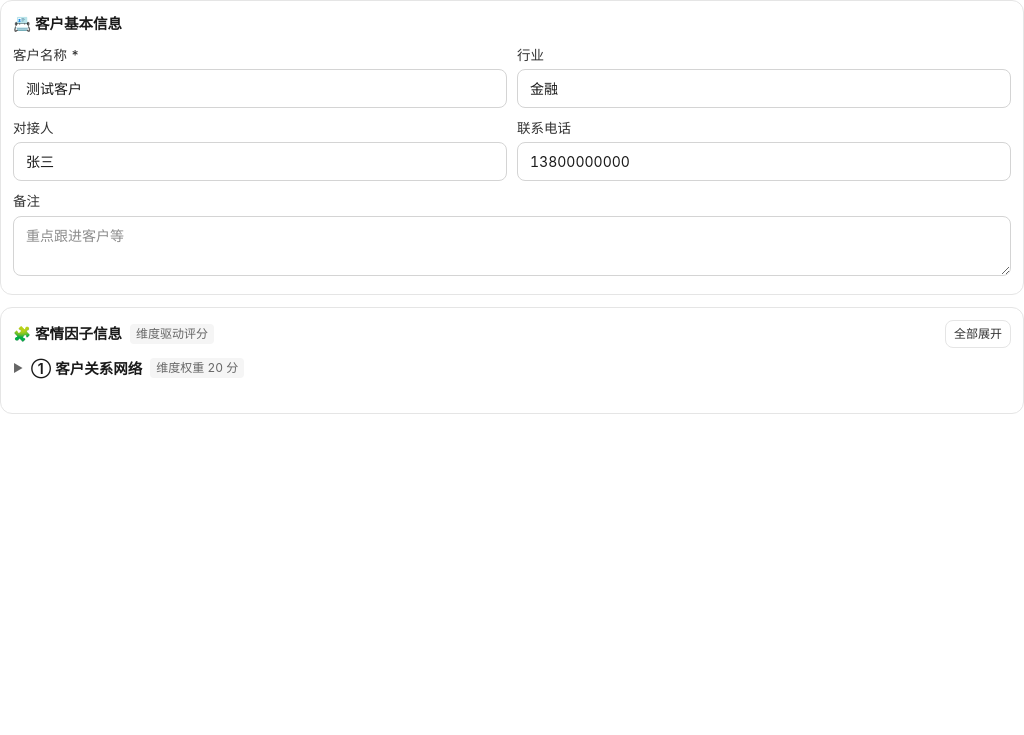
Test: CustomerForm 二级维度分组 › 维度默认收起，展开后按 sub_dimension 分组展示因子
Check: the text "已识别决策链人数占比" is not shown
Click the button "▶ ① 客户关系网络 维度权重 20 分" at (99, 368), box [13, 358, 1011, 379]
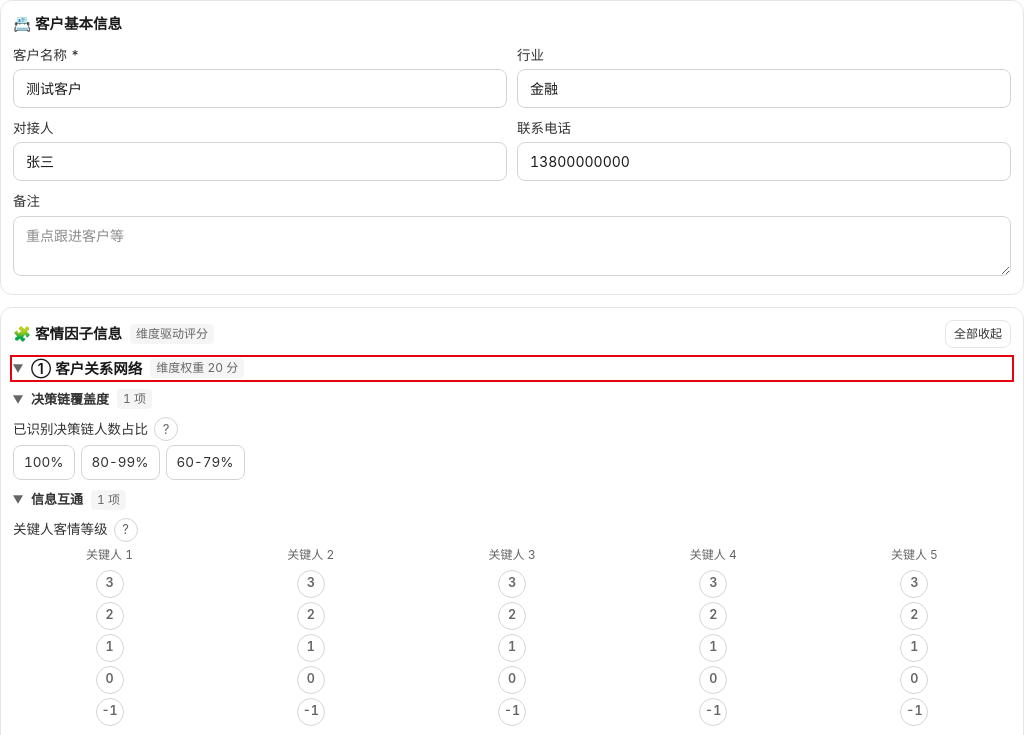
Check: the text "决策链覆盖度" is shown, box [31, 390, 109, 409]
Check: the text "信息互通" is shown, box [31, 490, 83, 509]
Check: the text "已识别决策链人数占比" is shown, box [13, 419, 148, 439]
Click the button named "查看已识别决策链人数占比说明" at (166, 429), box [154, 417, 178, 441]
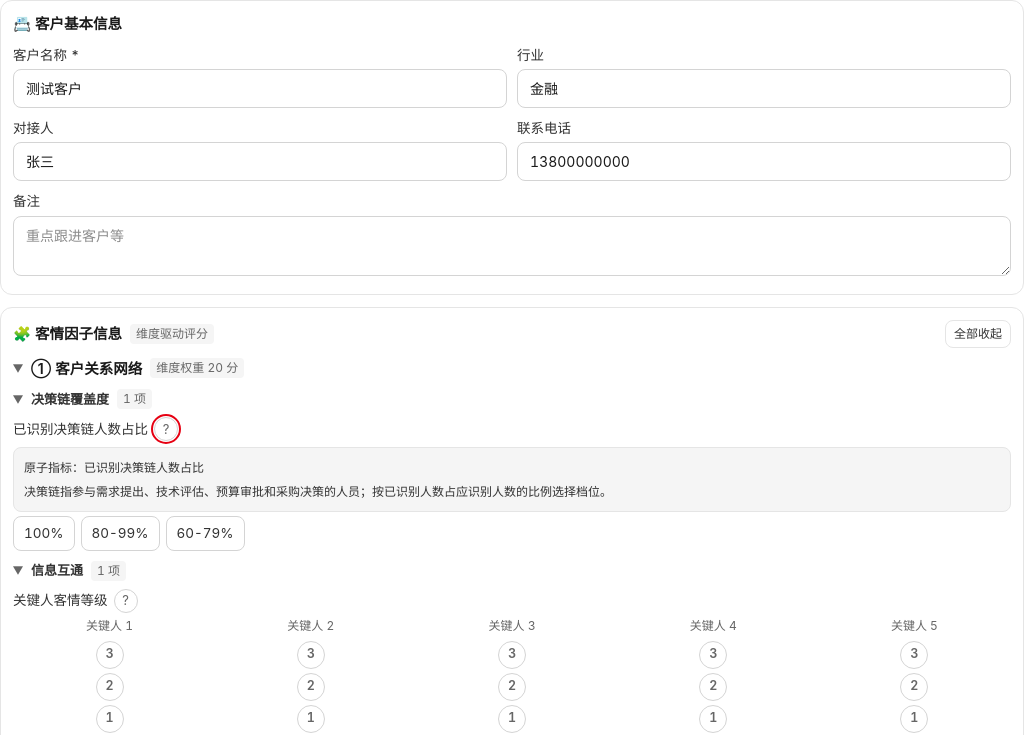
Check: the button named "查看已识别决策链人数占比说明" is expanded
Check: the text "原子指标：已识别决策链人数占比" is shown, box [24, 460, 204, 475]
Check: the text "决策链指参与需求提出、技术评估、预算审批和采购决策的人员；按已识别人数占应识别人数的比例选择档位。" is shown, box [24, 484, 612, 499]
Click the button named "查看已识别决策链人数占比说明" at (166, 429), box [154, 417, 178, 441]
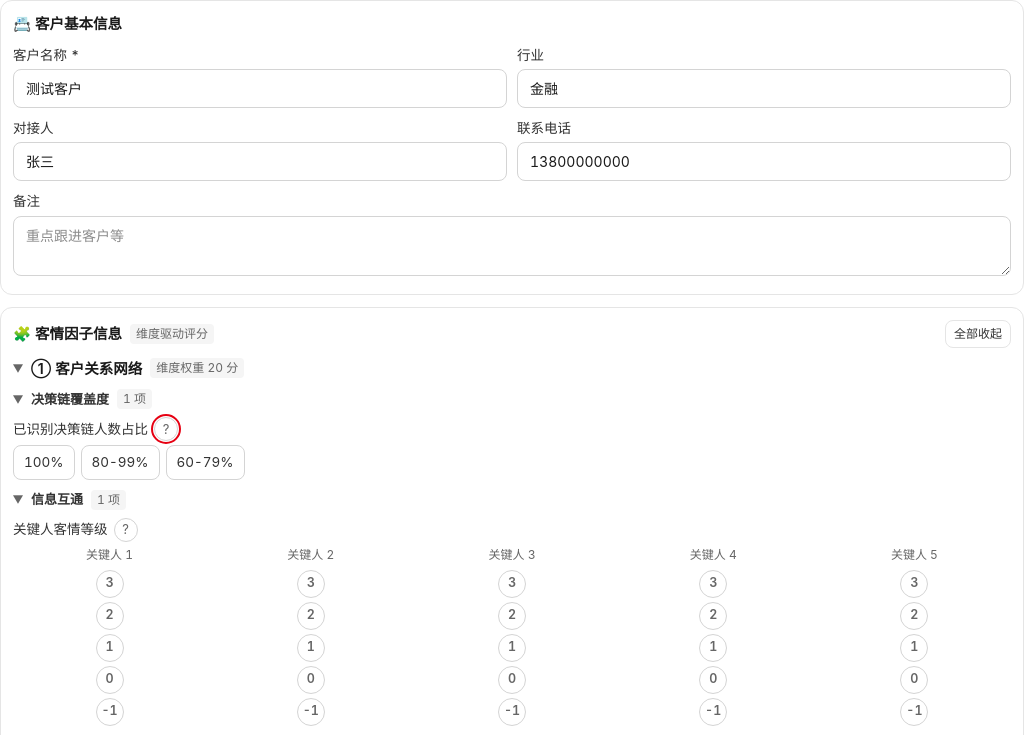
Check: the element "已识别决策链人数占比说明" is gone
